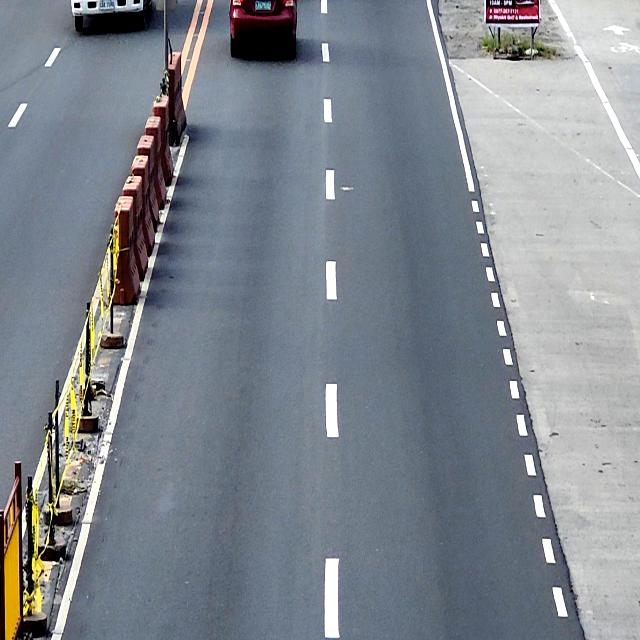Car: (228, 0, 297, 57), (70, 0, 152, 31)
License-Plate: (256, 0, 272, 11), (99, 0, 115, 10)
